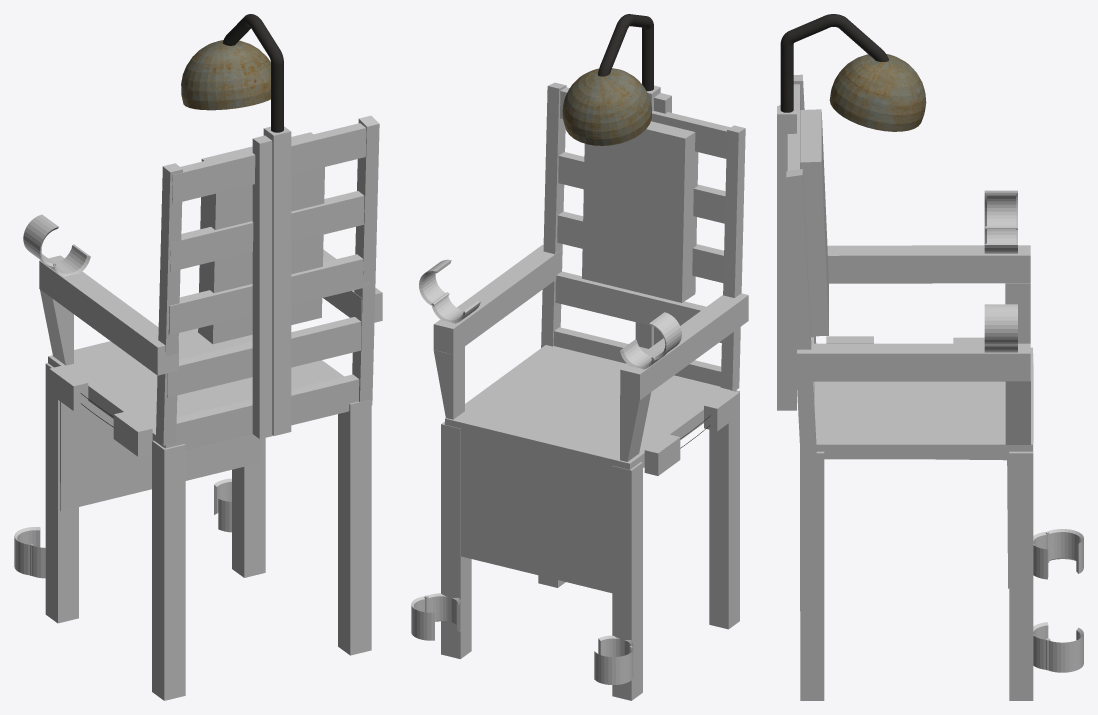
File: electric_CHAIR.fbx
The picture shows the model from 3 angles, left to right: view 1: azimuth 30°, elevation 25°; view 2: azimuth 150°, elevation 25°; view 3: azimuth 270°, elevation 25°; orthographic projection. The views are drawn at different scales.
Parts seen in each view (by area): view 1: Cube.001, Cube.007, Cube.008, Sphere, Cylinder.004, Cube.002, Cylinder; view 2: Cube.001, Cube.008, Cylinder.004, Sphere, Cube.002, Cylinder, Cube.007; view 3: Cube.001, Cylinder.004, Sphere, Cube.008, Cube.007, Cylinder, Cube.002.
Boxes of the visible parts, <box> form: Cube.001: <box>39,115,382,700</box>; Cube.007: <box>252,126,291,438</box>; Cube.008: <box>198,132,324,344</box>; Sphere: <box>181,40,270,110</box>; Cylinder.004: <box>14,214,231,578</box>; Cube.002: <box>49,365,152,456</box>; Cylinder: <box>223,14,283,132</box>; Cube.001: <box>433,82,748,700</box>; Cube.008: <box>582,121,698,302</box>; Cylinder.004: <box>411,259,681,684</box>; Sphere: <box>562,68,651,145</box>; Cube.002: <box>644,389,739,475</box>; Cylinder: <box>598,14,653,91</box>; Cube.007: <box>635,85,671,348</box>; Cube.001: <box>786,74,1033,700</box>; Cylinder.004: <box>984,190,1083,672</box>; Sphere: <box>829,54,926,131</box>; Cube.008: <box>800,109,828,336</box>; Cube.007: <box>777,105,796,410</box>; Cylinder: <box>780,14,888,112</box>; Cube.002: <box>826,336,984,343</box>.
Size of the model in its own units: 81.62 by 187 by 81.49.
